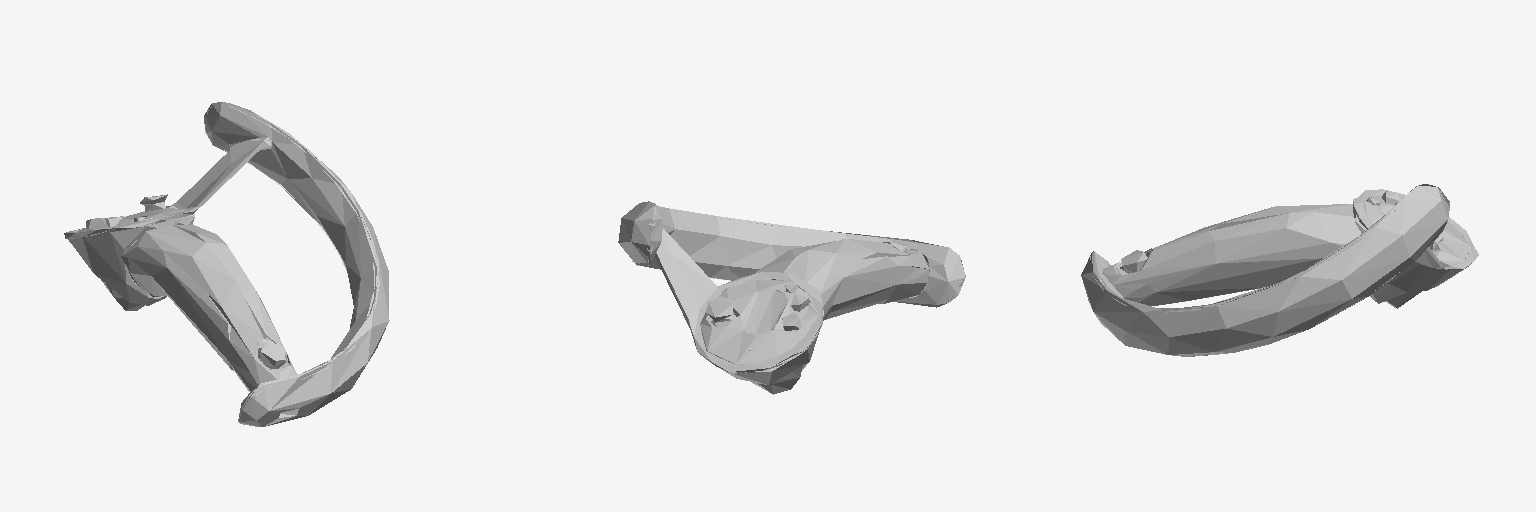
File: valve_controller_knu_1_0_right_low_res.obj
3 renders of one model, left to right at view 1: azimuth 30°, elevation 25°; view 2: azimuth 150°, elevation 25°; view 3: azimuth 270°, elevation 25°, orthographic.
Size of the model in its own units: 0.1233 by 0.0928 by 0.1826.